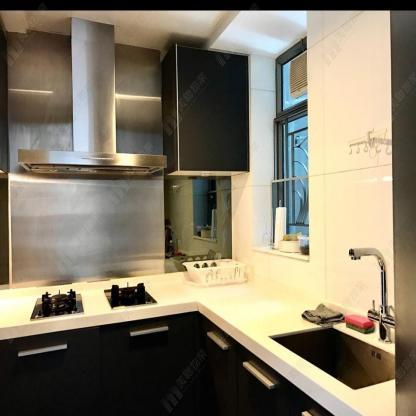Exhaust Fan: (290, 50, 307, 99)
Exhaust Hood: (12, 10, 166, 179)
Faucet: (342, 237, 395, 344)
Sink: (255, 326, 397, 412)
Stove: (5, 274, 190, 329)
